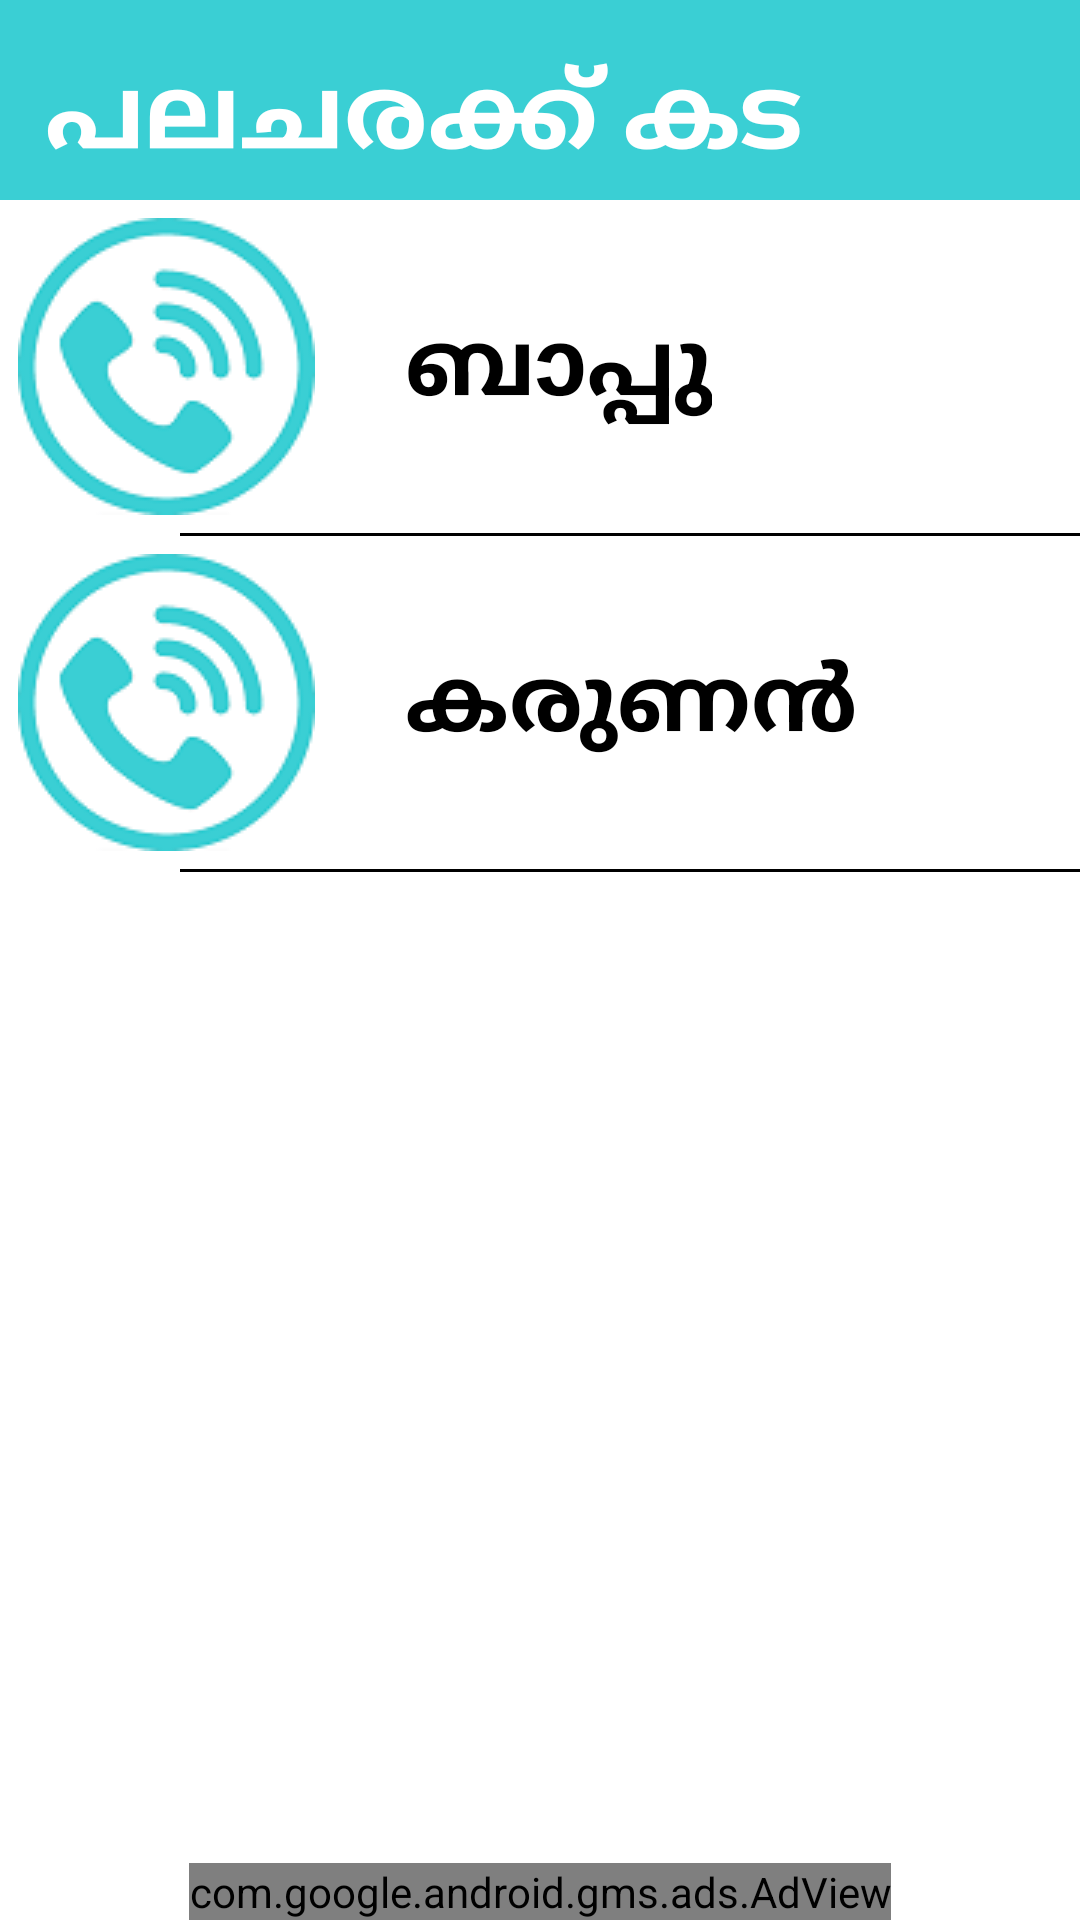

Where to tap for icons on this 1080x1920 app screen, as (x=x, y=y):
call: (x=166, y=366), (x=166, y=702)
